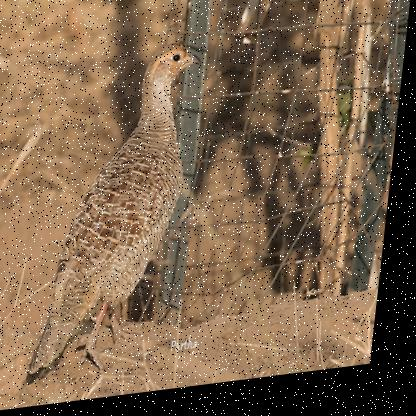Burung: (35, 45, 204, 383)
